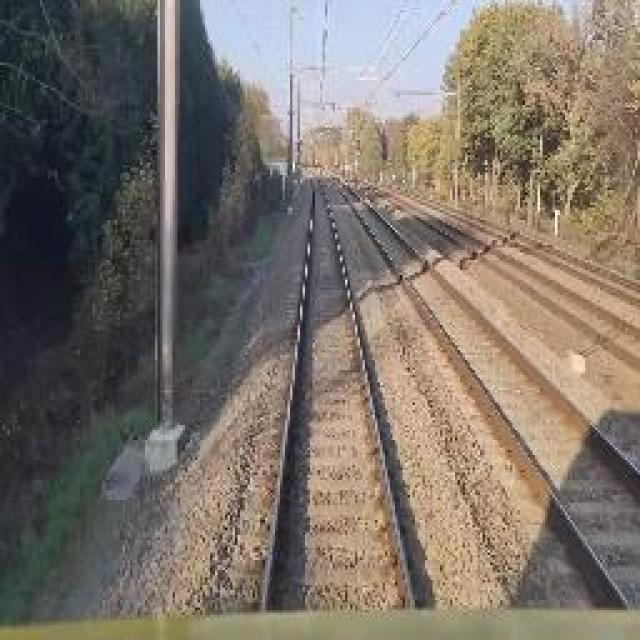rail: (315, 170, 640, 609), (232, 167, 446, 608), (337, 174, 640, 388)
